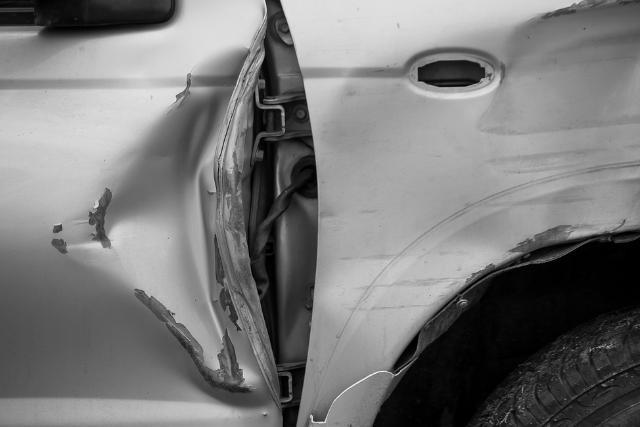Door: (0, 5, 322, 427)
Fender: (293, 0, 640, 427)
